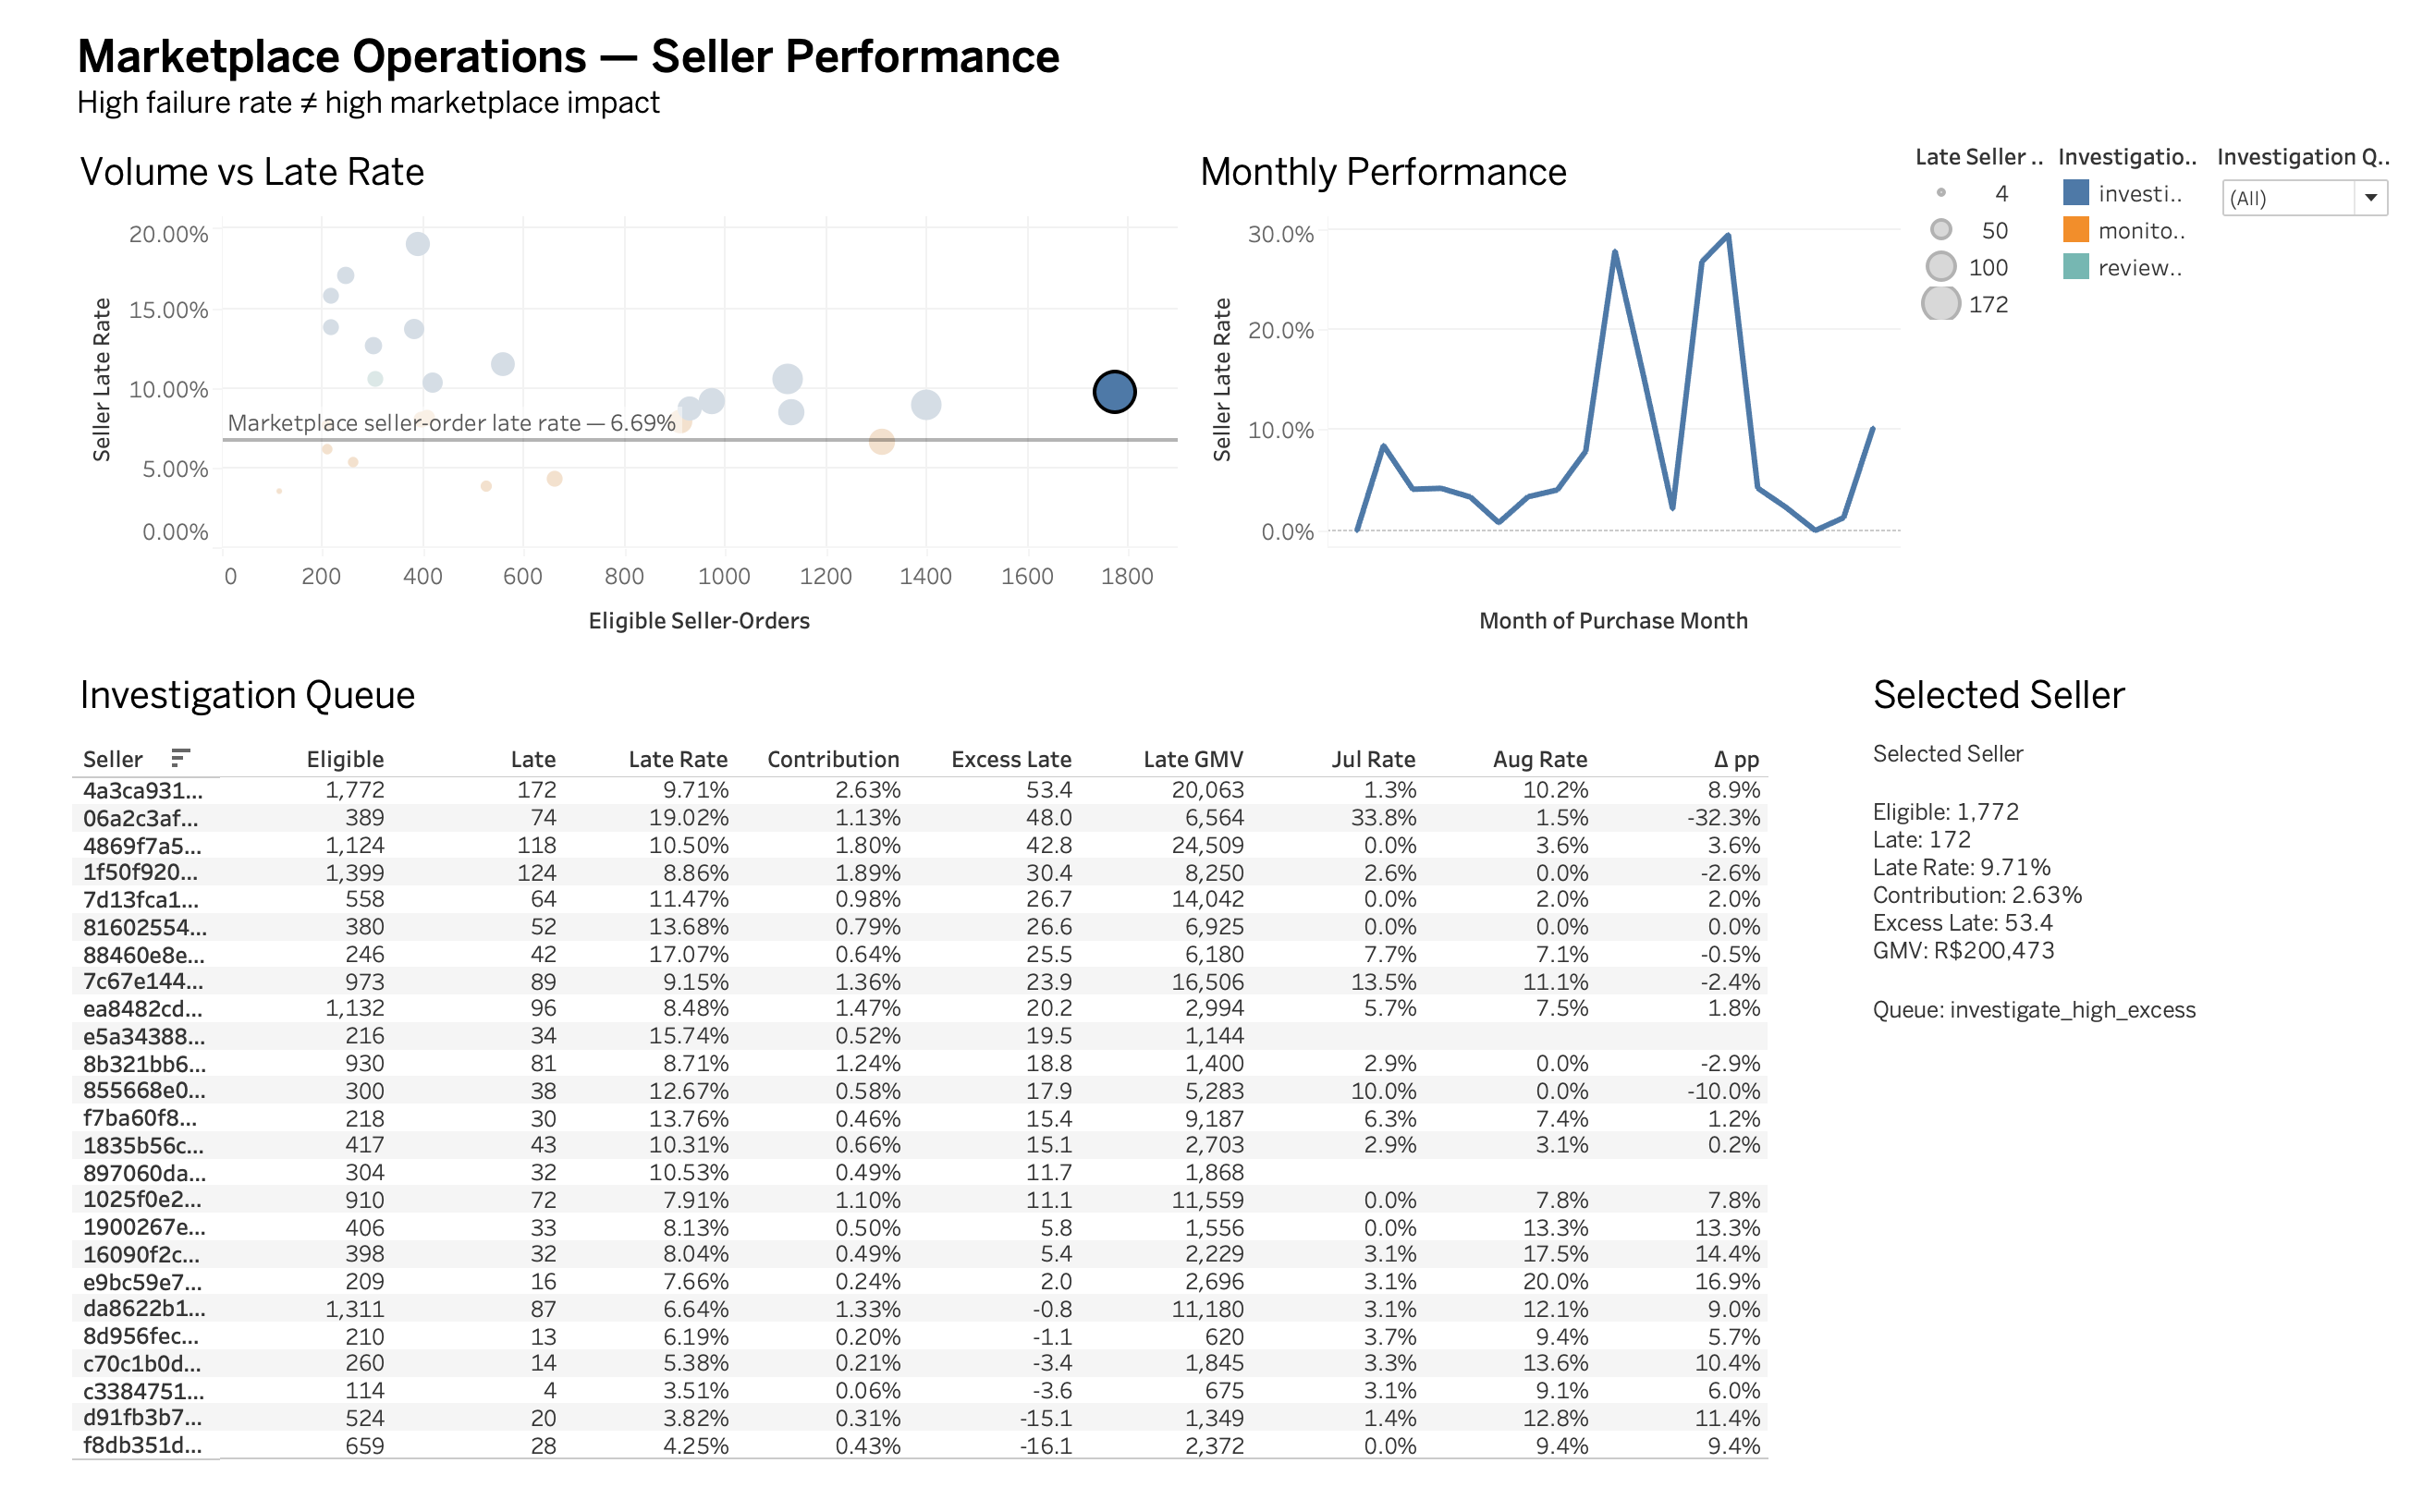

Layout of this report page (visuals, bound fields, positions):
{"tool":"tableau","page":{"name":"Dashboard 3","canvas":[1280,800],"ordinal":2},"visuals":[{"type":"text","box":[8,8,1264,62]},{"type":"worksheet","title":"Seller - Volume vs Late Rate","mark":"Circle","rows":["seller_late_rate"],"cols":["delivery_eligible_seller_orders"],"box":[8,70,606,283]},{"type":"worksheet","title":"Seller - Monthly Detail","mark":"Line","rows":["seller_late_rate"],"cols":["purchase_month"],"box":[614,70,391,283]},{"type":"legend","title":"Seller - Volume vs Late Rate","param":"[federated.0b0i6qh0b4ypte0zjsp3z0ca0tpr].[sum:late_seller_orders:qk]","box":[1005,70,77,106]},{"type":"legend","title":"Seller - Volume vs Late Rate","param":"[federated.0b0i6qh0b4ypte0zjsp3z0ca0tpr].[none:investigation_queue:nk]","box":[1082,70,86,106]},{"type":"filter","title":"Seller - Investigation Table","param":"[federated.0b0i6qh0b4ypte0zjsp3z0ca0tpr].[attr:investigation_queue:nk]","box":[1168,70,104,106]},{"type":"worksheet","title":"Seller - Investigation Table","mark":"Automatic","rows":["Calculation_2197899672317952"],"box":[8,353,970,439]},{"type":"worksheet","title":"Seller - Selected Summary","mark":"Automatic","box":[978,353,294,439]}]}

Visuals, with their boxes in screenshot pixels (x1, y1, x2, y2), scaled from the page's 1280x800 canvas onto the 2435x1512 screenshot:
text: region(15, 15, 2420, 132)
"Seller - Volume vs Late Rate" worksheet (Circle marks): region(15, 132, 1168, 667)
"Seller - Monthly Detail" worksheet (Line marks): region(1168, 132, 1912, 667)
"Seller - Volume vs Late Rate" legend: region(1912, 132, 2059, 333)
"Seller - Volume vs Late Rate" legend: region(2059, 132, 2222, 333)
"Seller - Investigation Table" filter: region(2222, 132, 2420, 333)
"Seller - Investigation Table" worksheet: region(15, 667, 1861, 1497)
"Seller - Selected Summary" worksheet: region(1861, 667, 2420, 1497)
